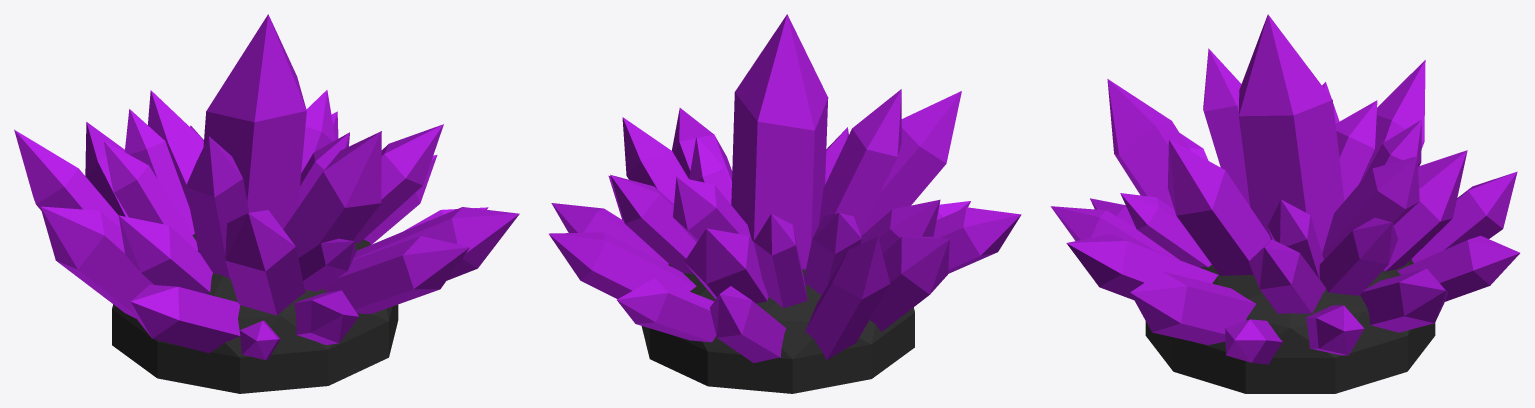
Rendered from Crystals.fbx.
3 renders of one model, left to right at view 1: azimuth 30°, elevation 25°; view 2: azimuth 150°, elevation 25°; view 3: azimuth 270°, elevation 25°, orthographic. The views are drawn at different scales.
Visible parts, largest first — view 1: Icosphere.006; view 2: Icosphere.006; view 3: Icosphere.006.
Part boxes in pixels (bbox=[...]): Icosphere.006: bbox=[14, 14, 519, 393]; Icosphere.006: bbox=[549, 14, 1021, 393]; Icosphere.006: bbox=[1050, 14, 1519, 393].
Size of the model in its own units: 535 by 410 by 542.
